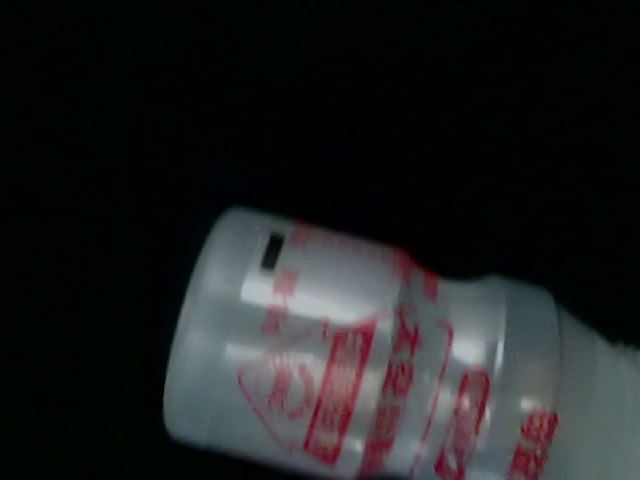CYLJ: (317, 108, 640, 390)
